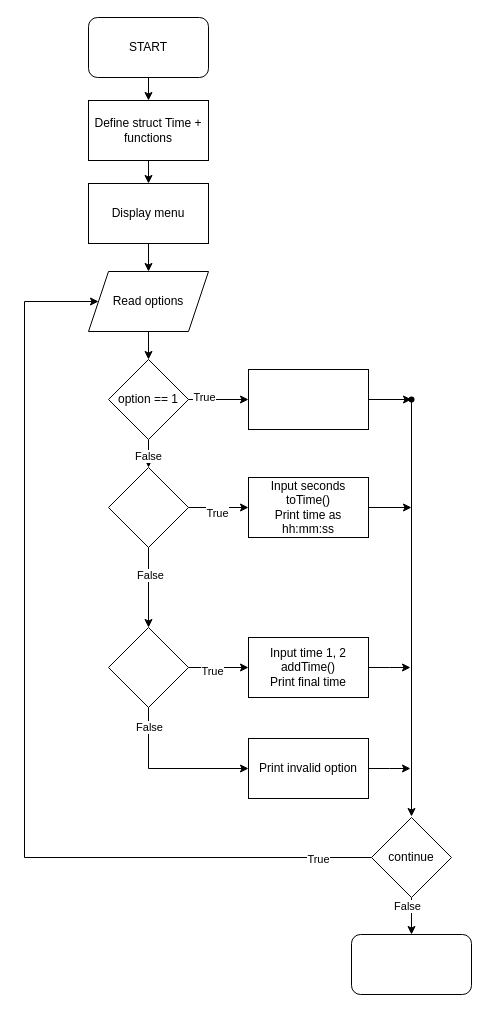
Image size: 489x1012. Some labels were removed from this diagram. Each missing label, with the centre of its shape:
END: point (411, 964)
Input time as hh:mm:ss toSecond Print seconds: point (308, 399)
option == 2: point (148, 507)
option == 3: point (148, 667)
